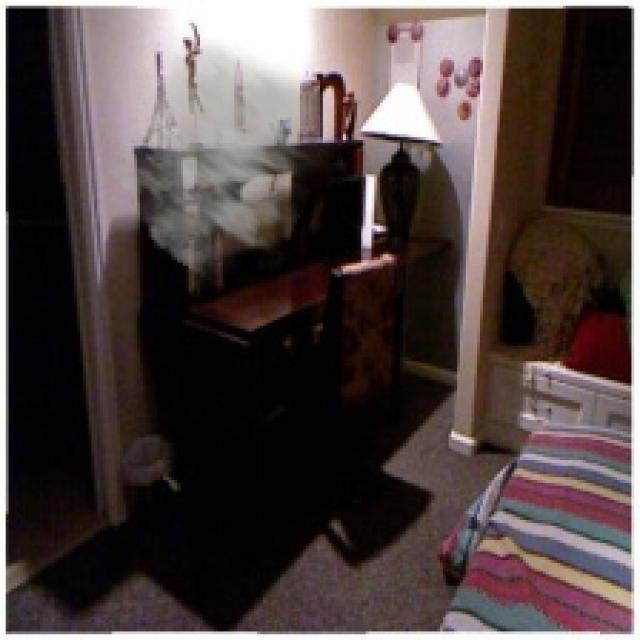Smoke: (106, 31, 346, 286)
